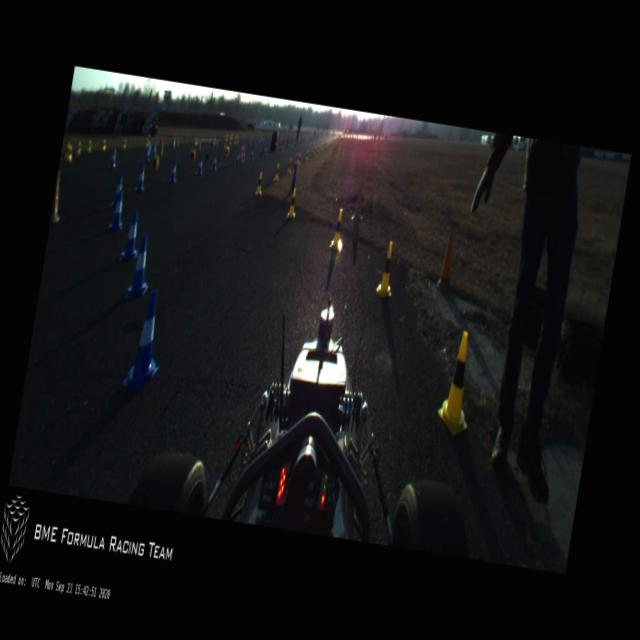blue_cone: (120, 286, 170, 394), (125, 234, 156, 304), (118, 210, 144, 264), (108, 190, 128, 232), (110, 174, 124, 208), (134, 164, 148, 193), (168, 160, 180, 186), (110, 149, 118, 168), (196, 158, 204, 176), (210, 154, 218, 172), (144, 145, 152, 163), (152, 142, 158, 156), (171, 136, 177, 150), (235, 152, 240, 166), (249, 148, 254, 162), (248, 138, 252, 150), (234, 139, 239, 148), (264, 146, 268, 156), (215, 138, 219, 148), (196, 139, 200, 147)
large_orange_cone: (292, 146, 300, 171), (294, 148, 302, 170), (238, 141, 246, 163), (240, 142, 248, 164)
yellow_cone: (434, 328, 482, 439), (374, 242, 400, 298), (329, 208, 348, 252), (286, 186, 300, 221), (254, 170, 264, 196), (66, 146, 74, 162), (274, 162, 280, 181), (64, 142, 70, 160), (86, 138, 92, 154), (76, 142, 82, 156), (286, 160, 292, 173), (121, 137, 127, 150), (102, 138, 107, 150), (298, 152, 302, 166), (194, 137, 198, 146), (316, 145, 320, 153), (144, 138, 148, 146), (229, 136, 232, 146), (305, 152, 308, 160), (321, 142, 324, 150), (314, 147, 316, 156), (234, 136, 236, 145)
